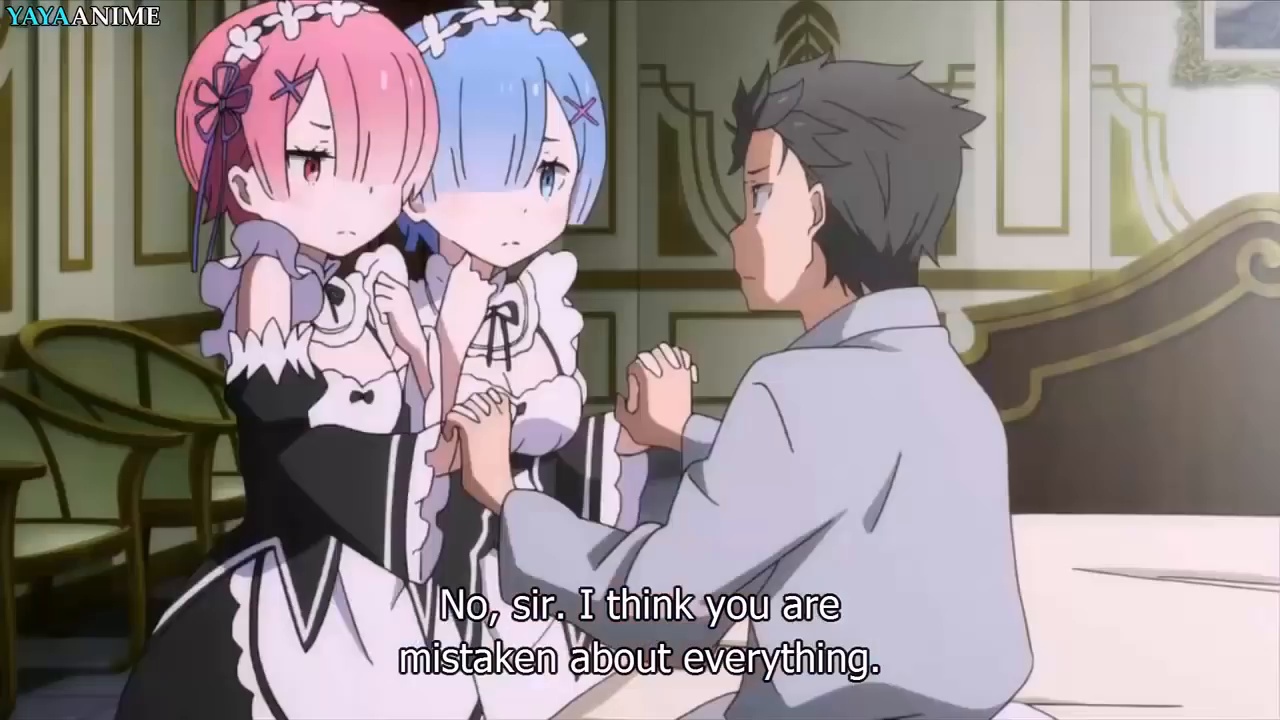REM: (400, 7, 619, 266)
